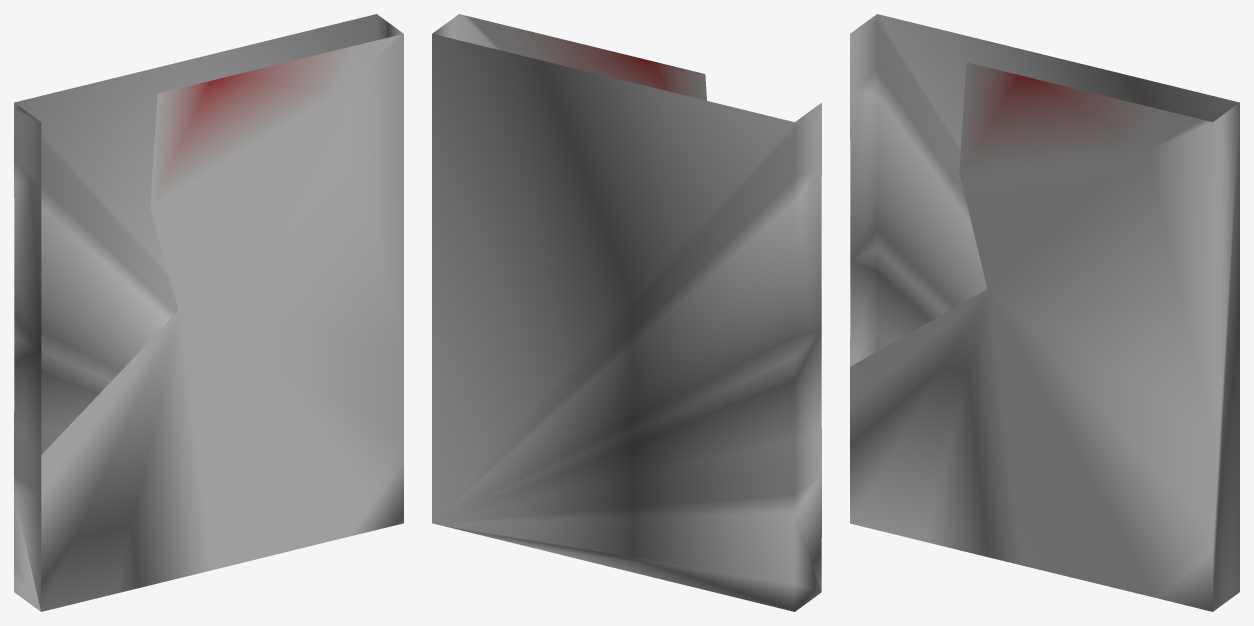
The model's file is SM_FA_Factory_W155_H200.fbx.
3 views of the same model, side by side, from view 1: azimuth 30°, elevation 25°; view 2: azimuth 150°, elevation 25°; view 3: azimuth 330°, elevation 25° (orthographic).
Visible parts, largest first — view 1: SM_FA_Factory_W155_H200; view 2: SM_FA_Factory_W155_H200; view 3: SM_FA_Factory_W155_H200.
Boxes of the visible parts, x1,y1,x2,y2 form: SM_FA_Factory_W155_H200: (14,14,403,611); SM_FA_Factory_W155_H200: (432,14,821,611); SM_FA_Factory_W155_H200: (850,14,1239,611).
Size of the model in its own units: 155 by 20 by 200.
